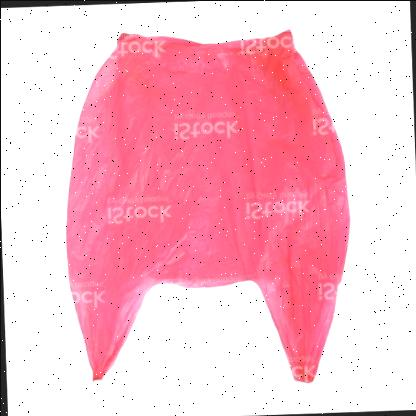Others: (64, 28, 350, 382)
